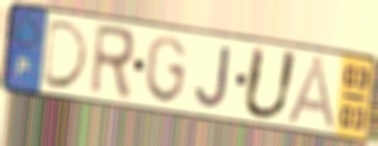A: (283, 54, 341, 132)
D: (40, 17, 92, 92)
G: (143, 34, 189, 107)
J: (193, 43, 234, 111)
R: (86, 22, 137, 103)
U: (239, 43, 302, 122)
